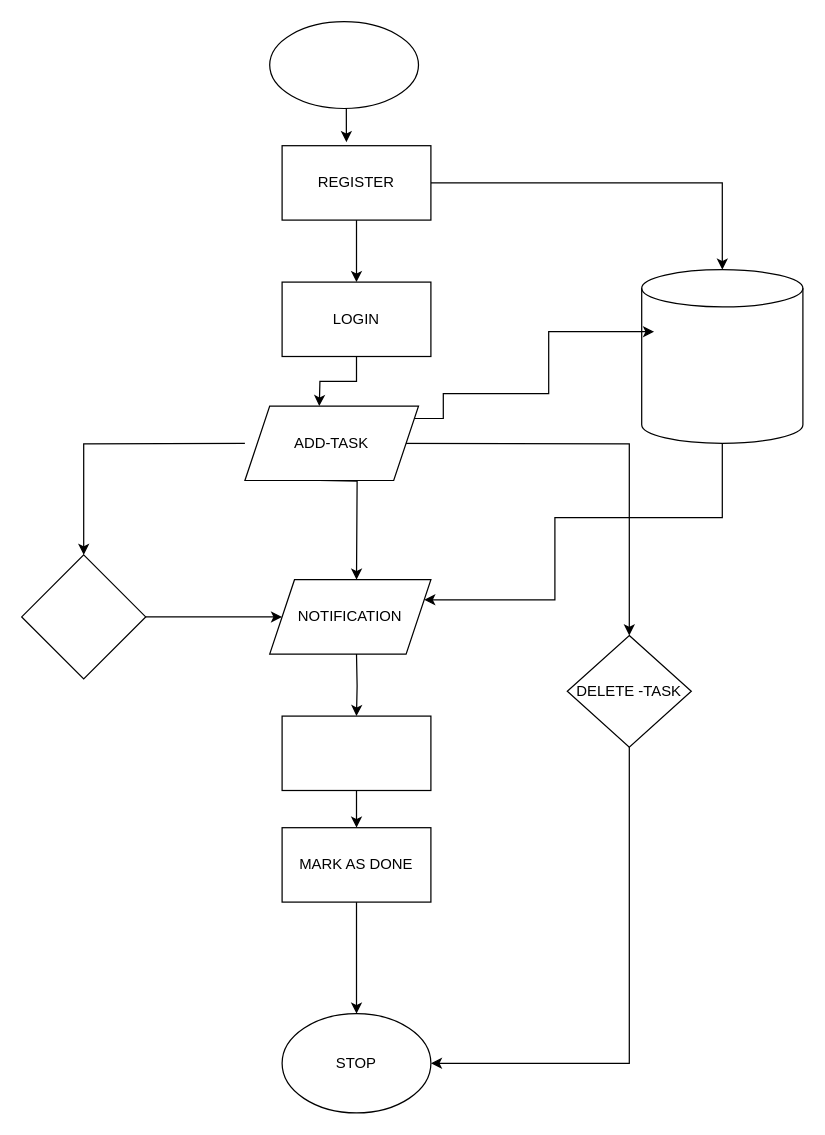
The diagram is 825 pixels wide and 1135 high, and some of its shapes have lost their labels. The centre of each missing label's shape, as x and y in pixels:
"DATABASE" goes at (721,355).
"EDIT-TASK" goes at (83,616).
"MARK IN PROGRESS" goes at (356,752).
"START" goes at (343,64).
